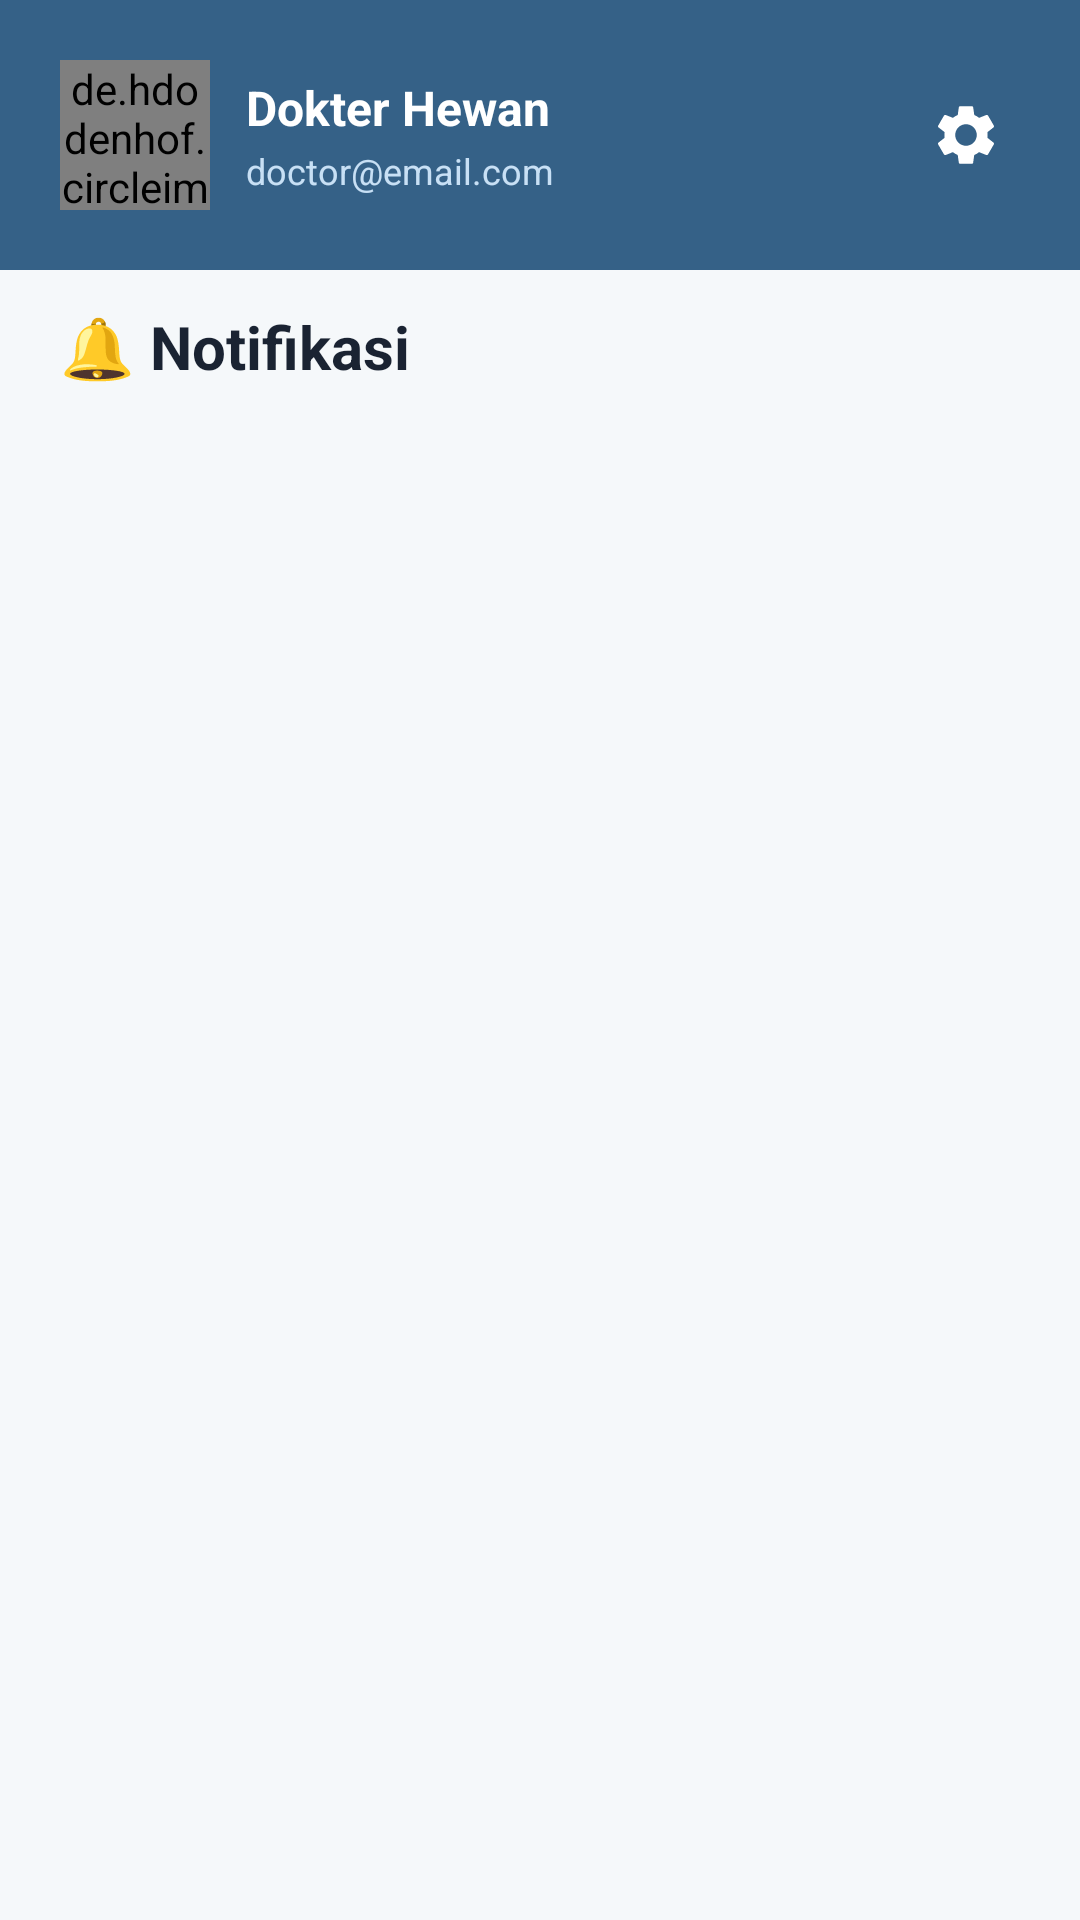

Where to tap for icons on this 1080*1920 app screen, as [x,y]:
Pengaturan Dokter: [966,135]
